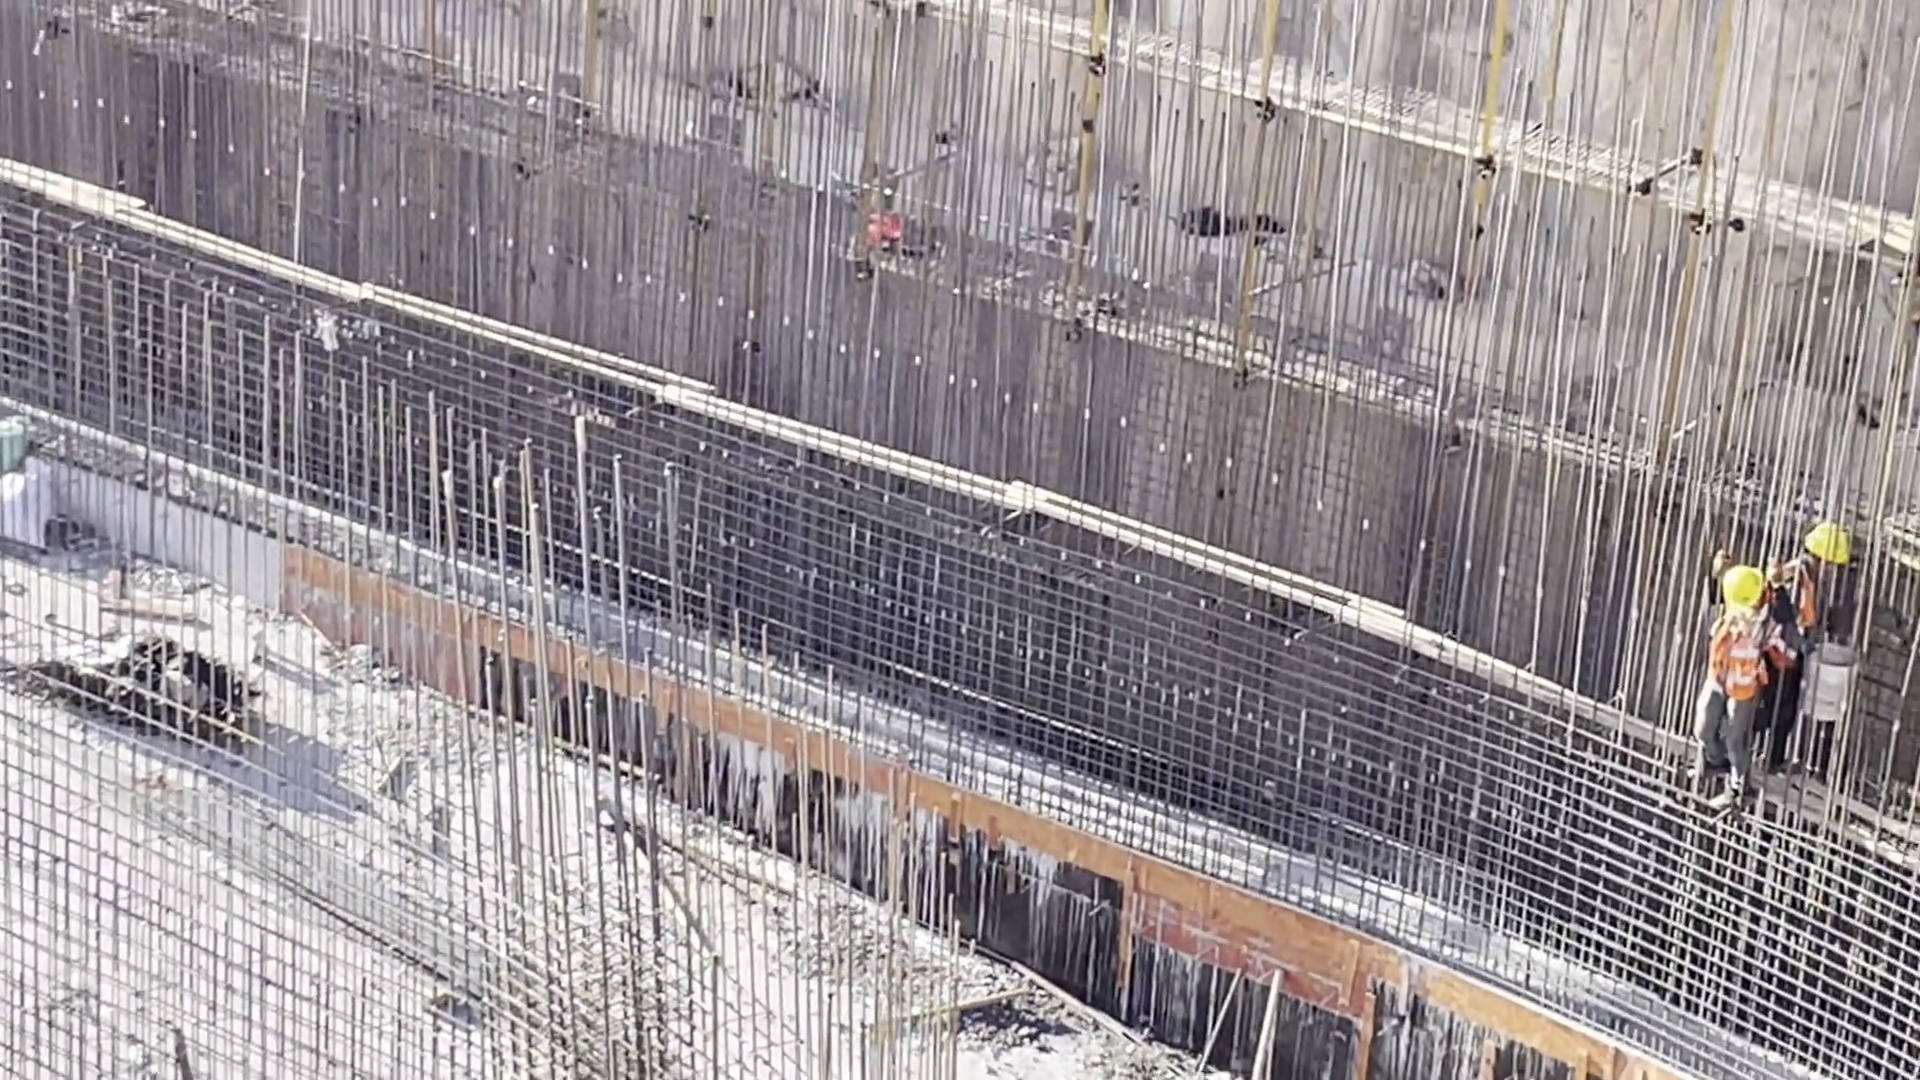helmet: (1730, 561, 1778, 609), (1806, 522, 1845, 563)
person: (1769, 515, 1852, 771), (1701, 565, 1777, 820)
vest: (1708, 624, 1762, 694), (1772, 563, 1818, 629)
